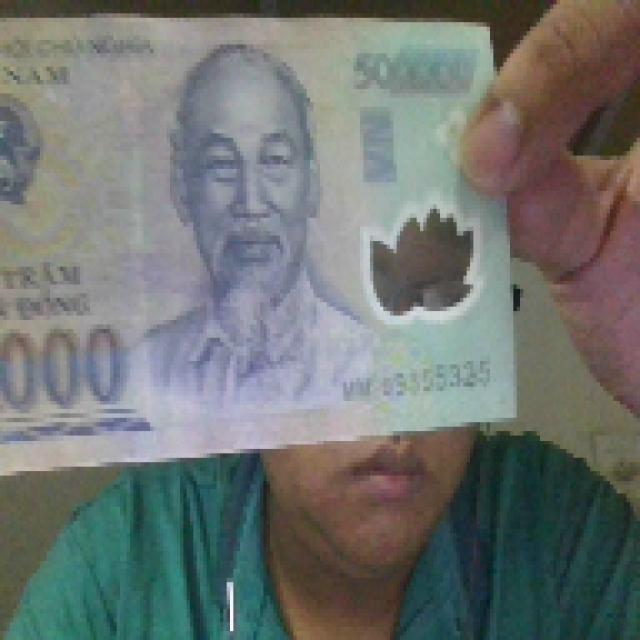500 000 VND: (1, 9, 520, 475)
